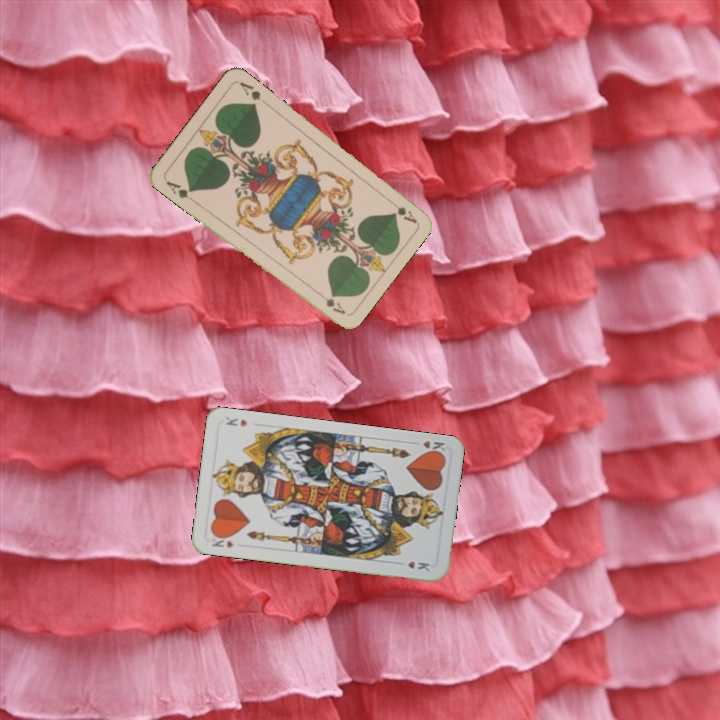GA: (384, 195, 419, 225), (162, 177, 195, 201)
HK: (408, 436, 448, 458), (206, 531, 236, 551)
